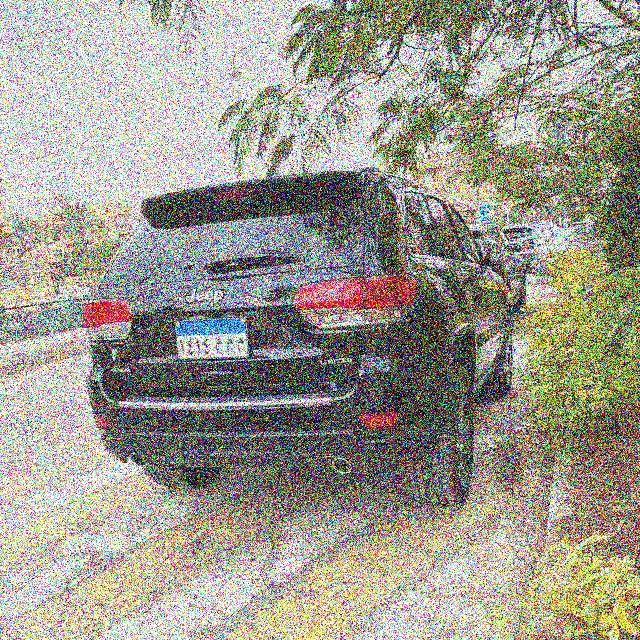License Plate: (174, 316, 249, 361)
